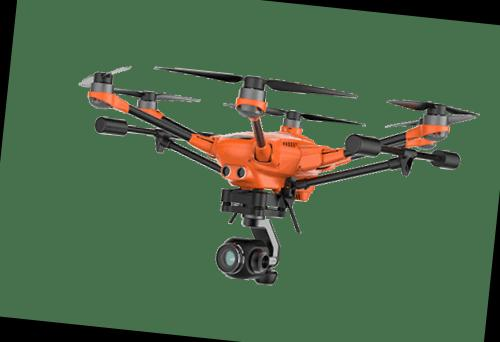drone: (62, 44, 480, 239)
